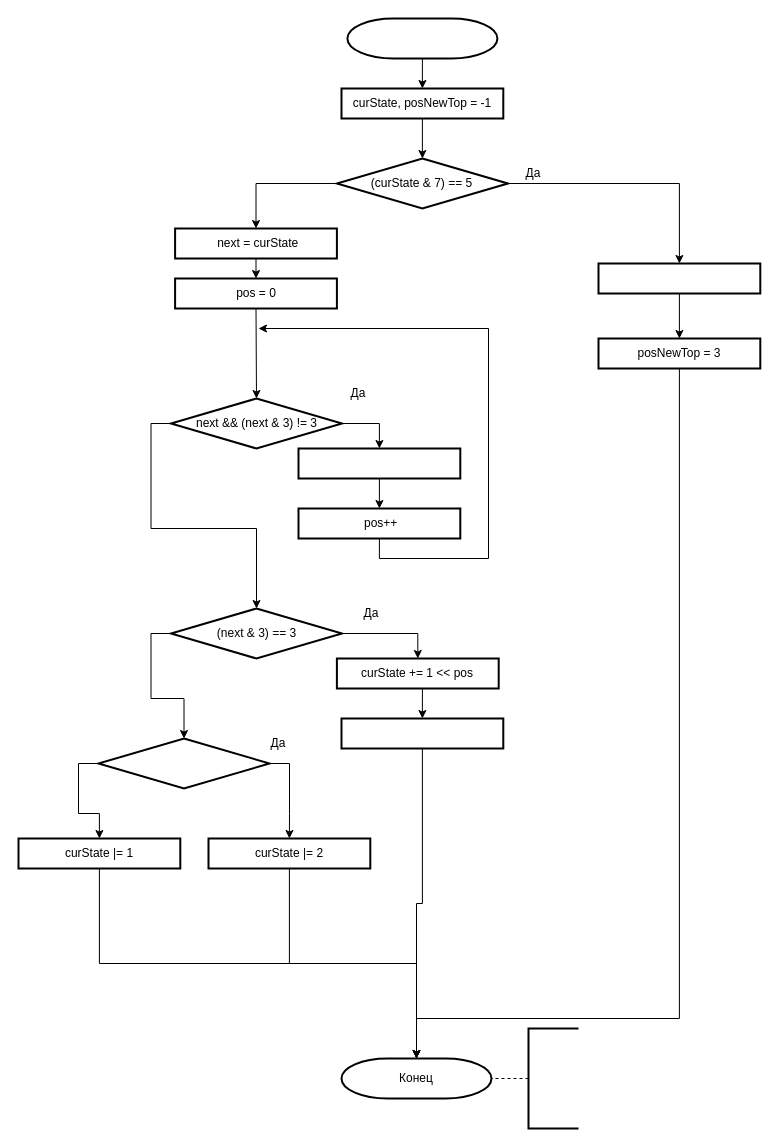
This 778x1146 diagram has some shape labels left out. The centre of each missing label's shape, as x and y in pixels:
"curState & 1" goes at (183,763).
"curState += 3" goes at (679,278).
"next >>= 1" goes at (379,463).
"posNewTop = pos + 2" goes at (422,733).
"Возвращает posNewTop" goes at (553,1078).
"Начало" goes at (422,38).
